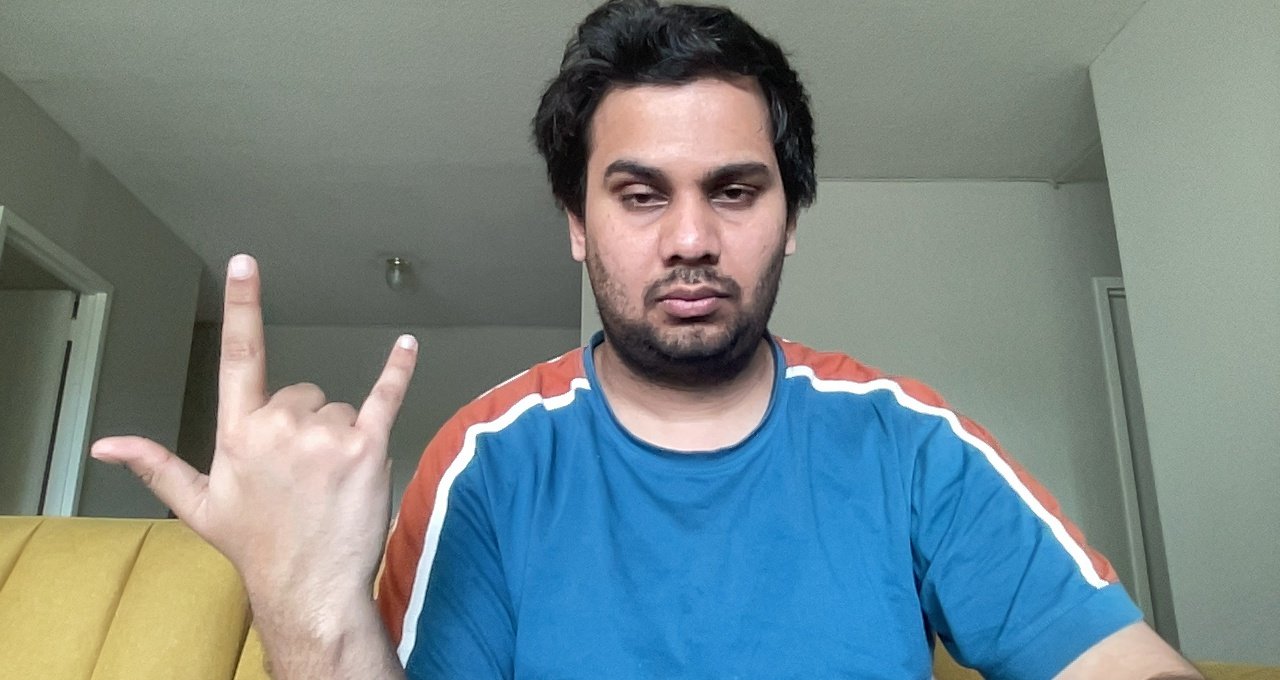rockon sign: (77, 240, 428, 621)
